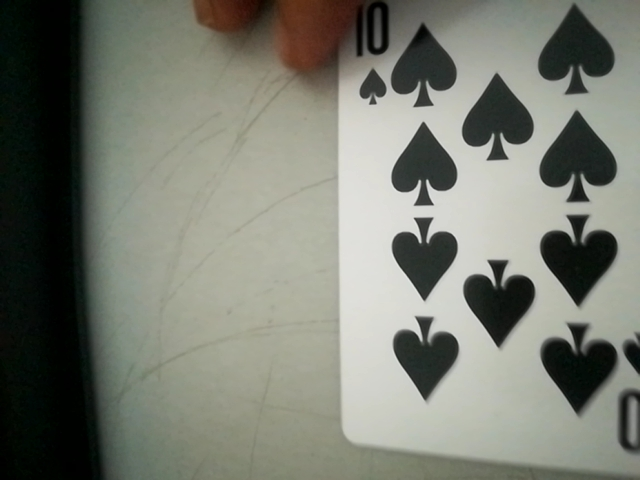ht 10: (344, 2, 428, 108)
